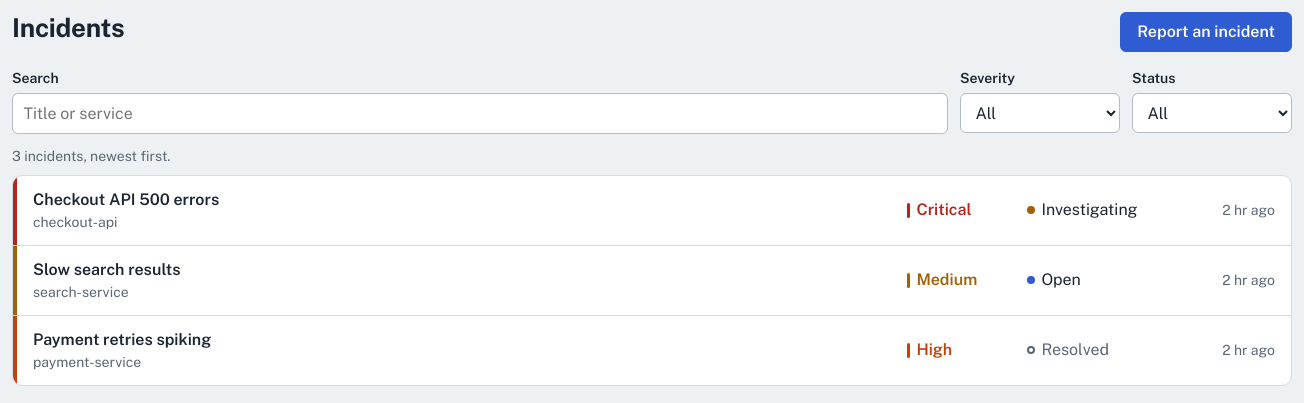
Test: IncidentsPage › filters by search, severity and status, and can clear the filters
Expected: the list named "Incidents" is shown, [12, 175, 1292, 386]
Type "service" into the search field labelled "Search". click: [480, 114]
box: [12, 93, 948, 134]
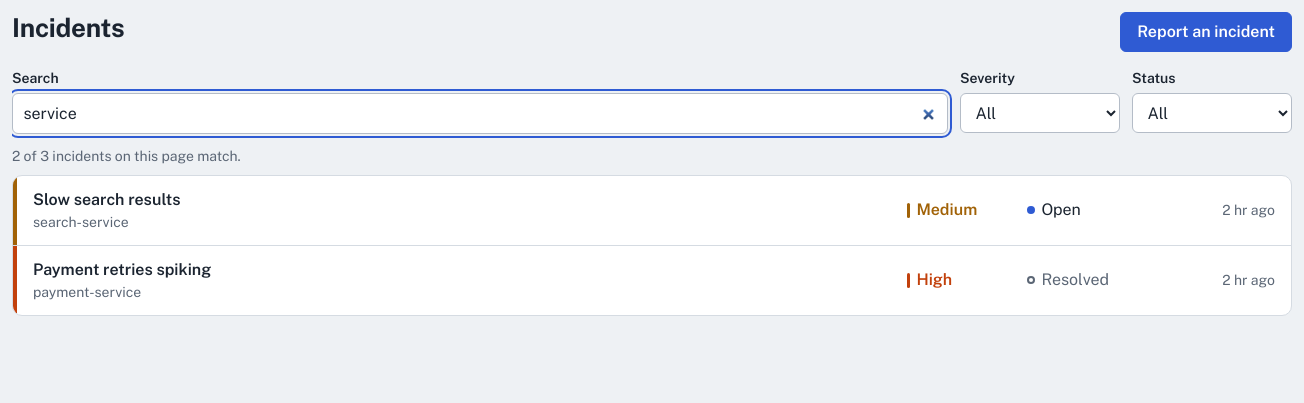
Now the text "2 of 3 incidents on this page match." is shown, box [12, 148, 241, 164]
Select "High" in the dropdown labelled "Severity". click: [1040, 113]
box: [960, 93, 1120, 133]
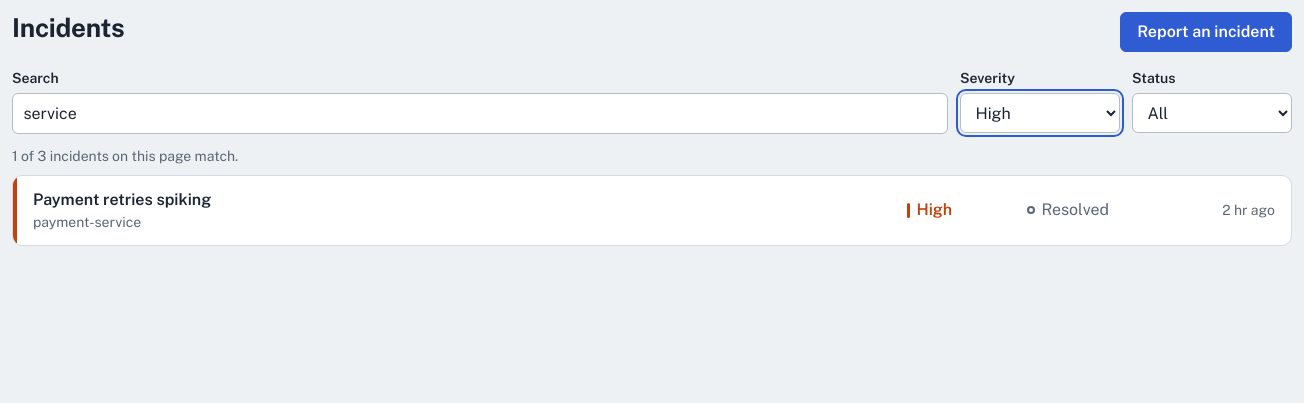
Select "Open" in the dropdown labelled "Status". click: [1212, 113]
box: [1132, 93, 1292, 133]
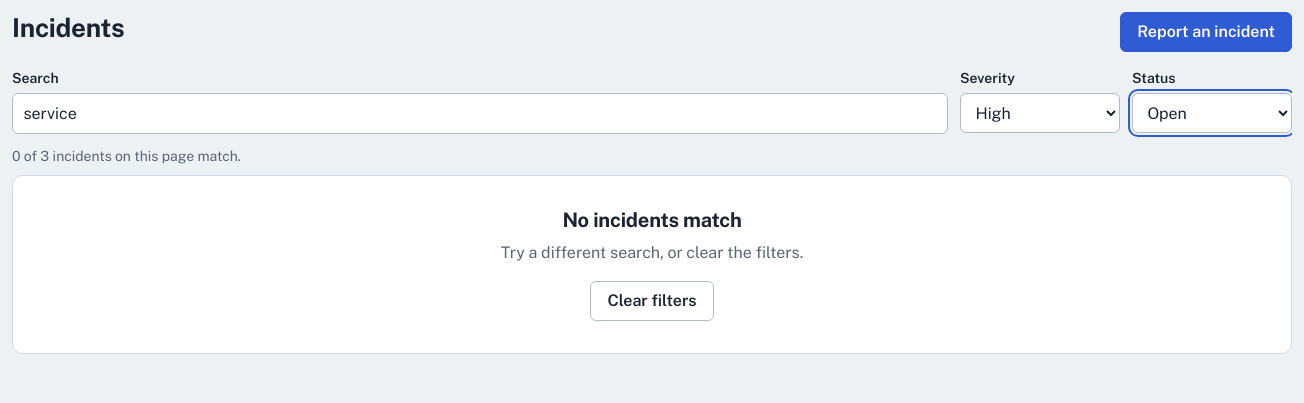
Now the heading "No incidents match" is shown, box [562, 208, 742, 232]
Click the button "Clear filters". click: [652, 301]
box: [590, 281, 714, 321]
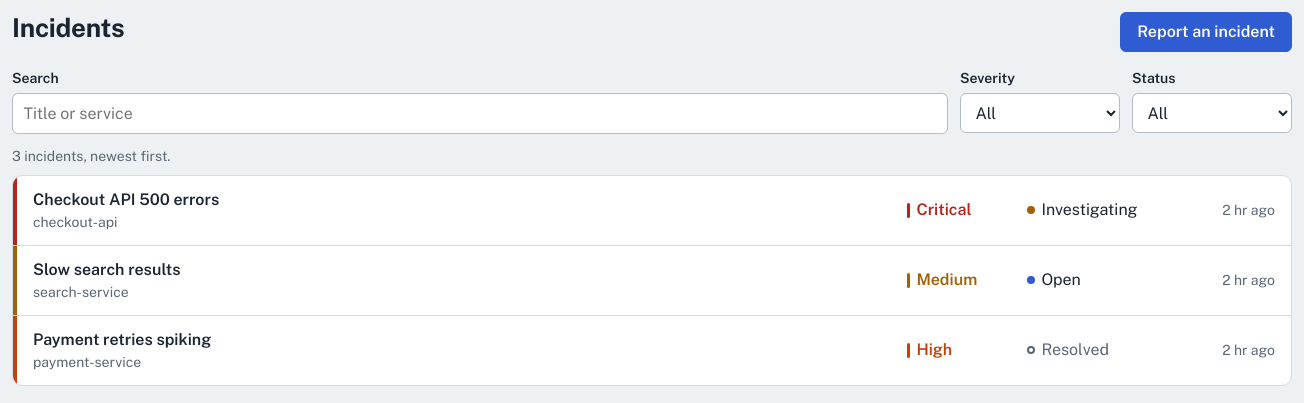
Now the search field labelled "Search" is empty, box [12, 93, 948, 134]
